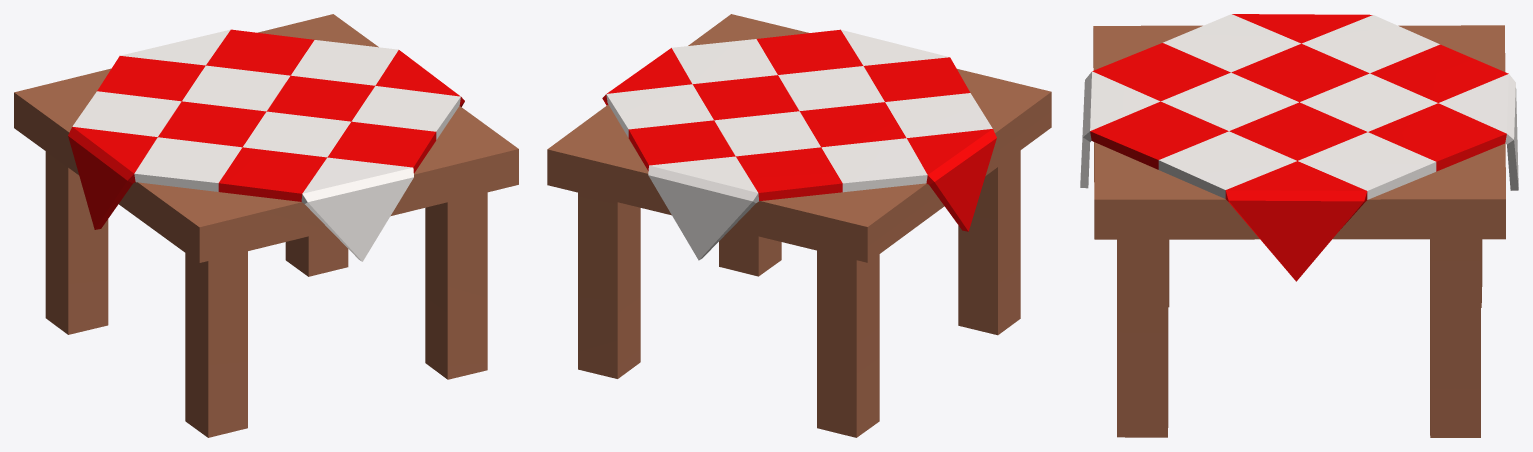
File: table.fbx
The picture shows the model from 3 angles, left to right: view 1: azimuth 30°, elevation 25°; view 2: azimuth 150°, elevation 25°; view 3: azimuth 270°, elevation 25°; orthographic projection. The views are drawn at different scales.
Parts seen in each view (by area): view 1: table; view 2: table; view 3: table.
Boxes of the visible parts, box(x1,y1,x2,y2) form: table: box(14, 14, 518, 437); table: box(547, 14, 1051, 437); table: box(1080, 14, 1518, 437).
Bounding box in the file's own units: 119 × 77.49 × 119.
Materials: 1 (1 with a texture image).
